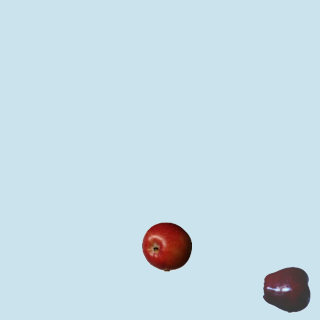Apple Braeburn: (141, 221, 191, 271)
Apple Red Delicious: (262, 264, 312, 314)
